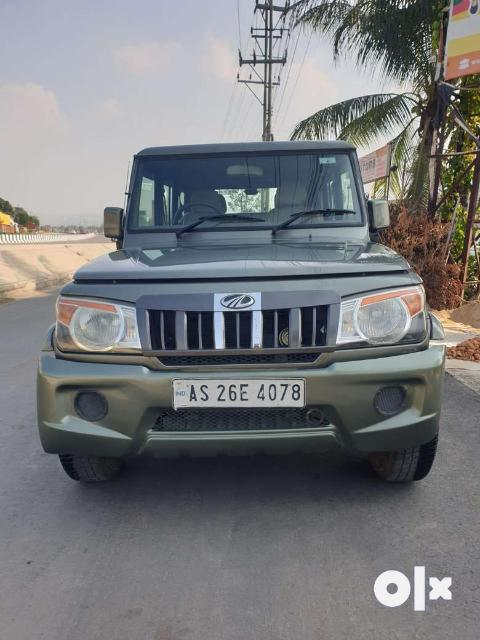Indian_Number_Plate: (172, 380, 306, 408)
